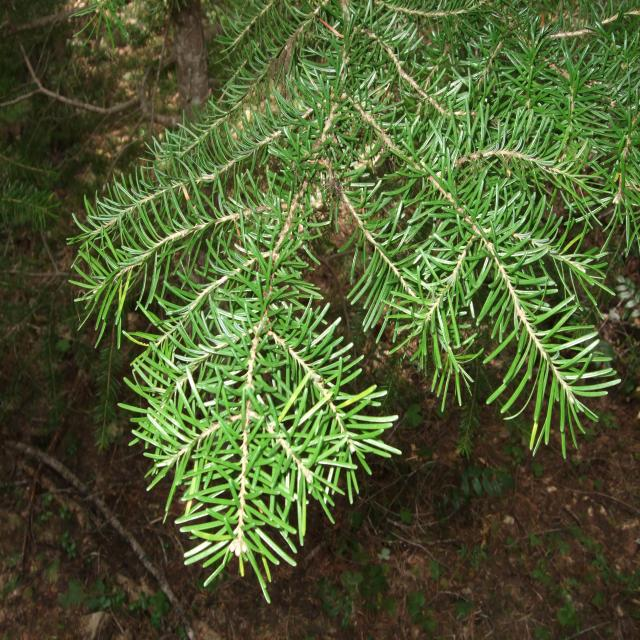Tsuga mertensiana: (54, 0, 640, 627)
